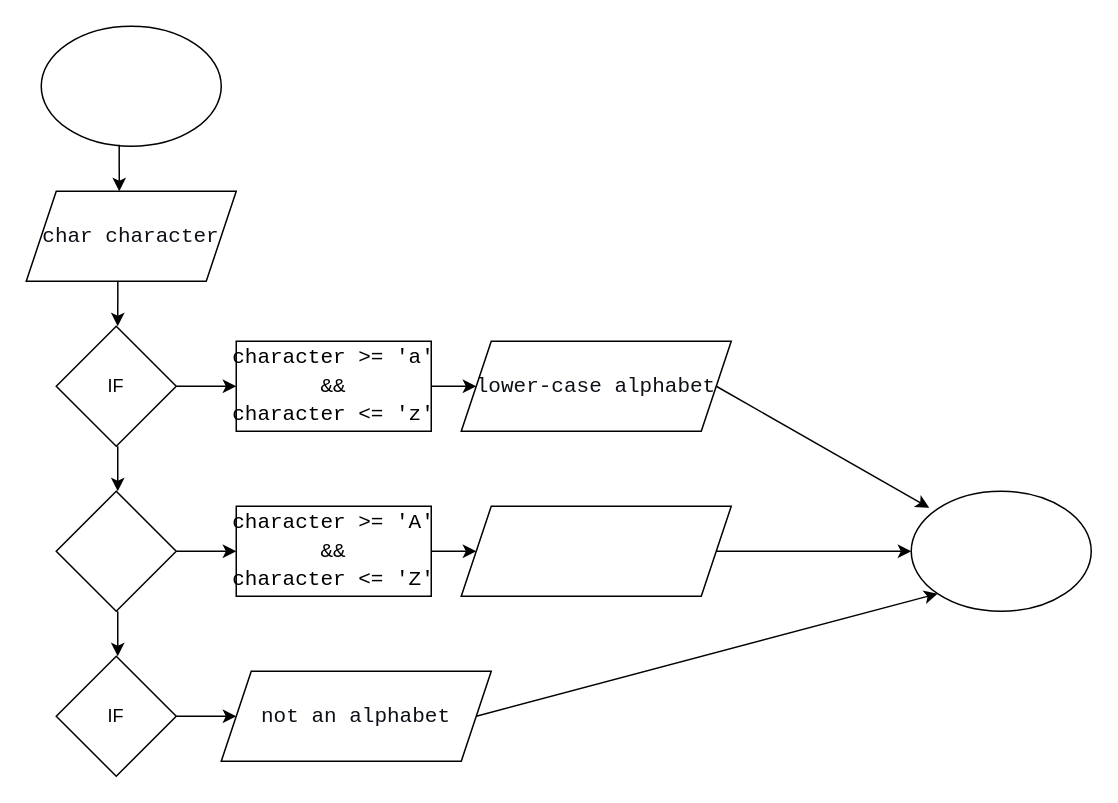
This 1118x803 diagram has some shape labels left out. The centre of each missing label's shape, as x and y in pixels:
ELSE IF: point 115,550
END: point 1000,550
START: point 130,85
upper-case alphabet: point 595,550
